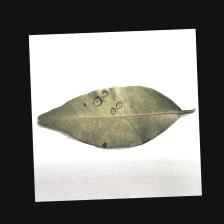canker: (82, 94, 130, 152)
